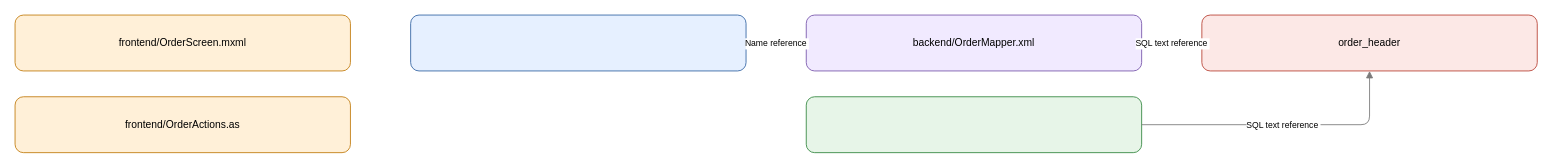
This 1552x168 diagram has some shape labels left out. The shapes that lost their labels are listed below. From the top down, each one's box as (x1, y1, x2, y2) in pixels, then its label:
(410, 14, 746, 71): backend/OrderService.java
(805, 96, 1142, 153): db/schema.sql
